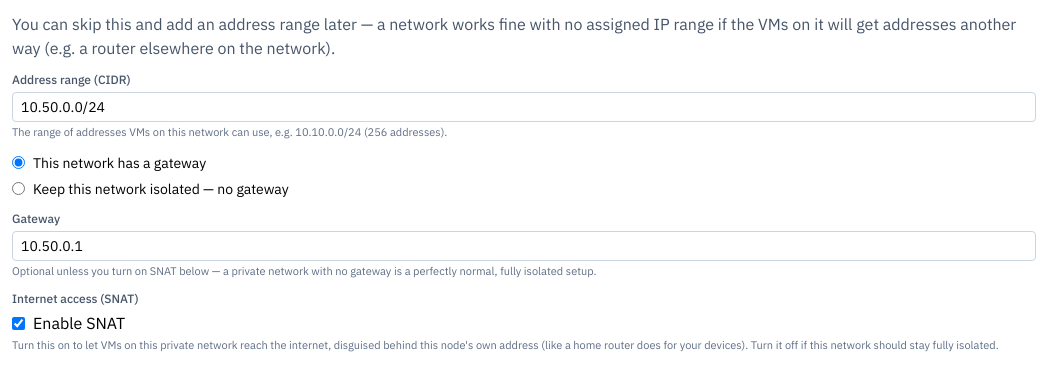
SubnetStep (T-701) › choosing 'keep isolated' clears the gateway and snat, and hides both fields
Click the radio button labelled "Keep this network isolated — no gateway": {"x": 18, "y": 188} [12,182,25,195]
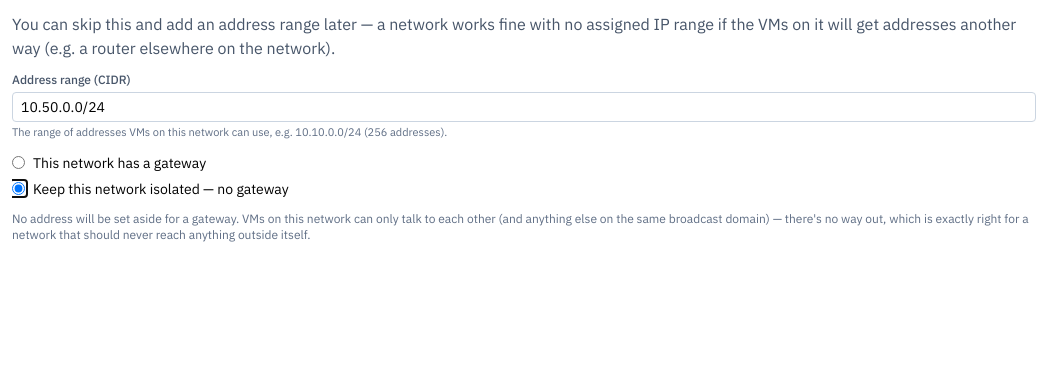
Result: the label "Enable SNAT" is gone
